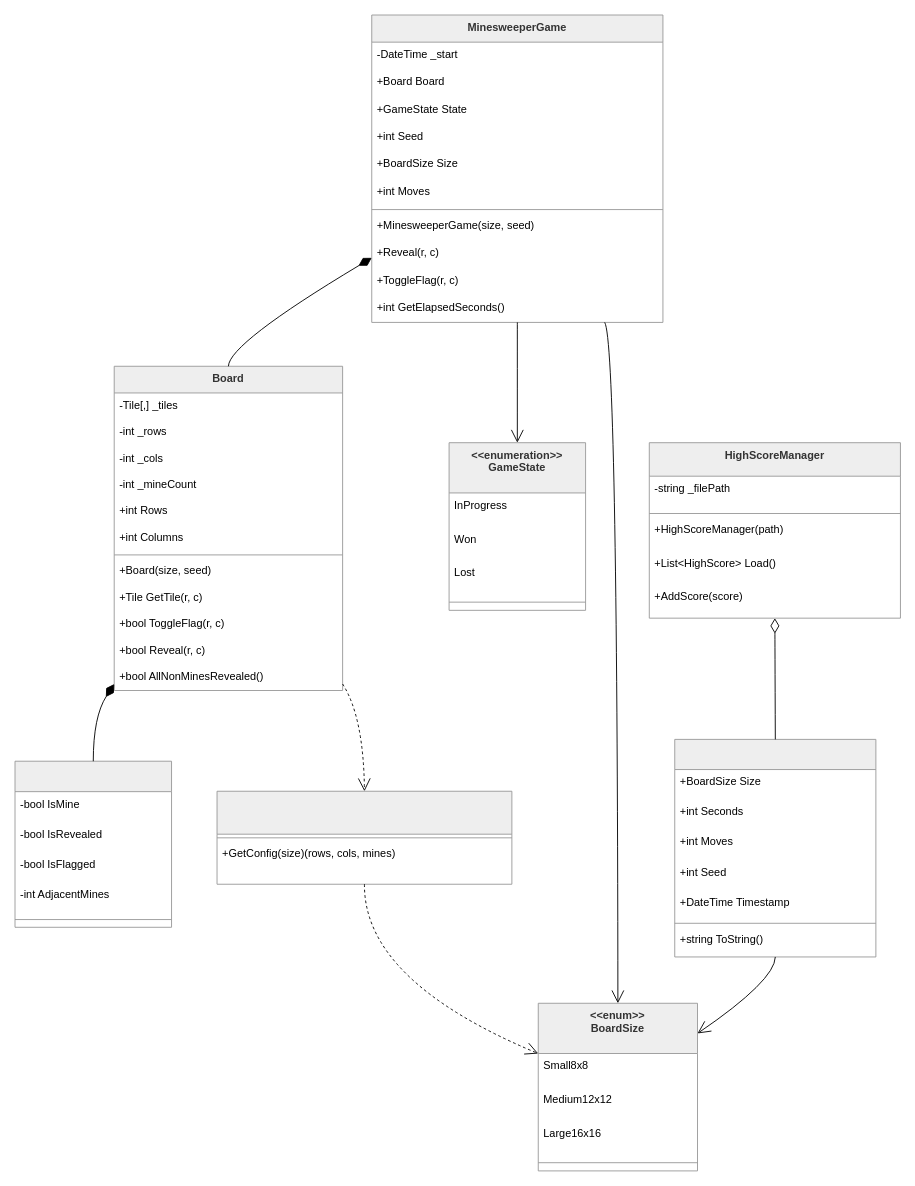
Some shapes in this 915 by 1186 pixel diagram are drawn without their labels. The shapes that lost their labels are listed below. From the top down, each one's box as (x1, y1, x2, y2) in pixels, then its label:
(14, 760, 172, 927): Tile
(216, 790, 512, 884): BoardConfig
(674, 738, 876, 957): HighScore
